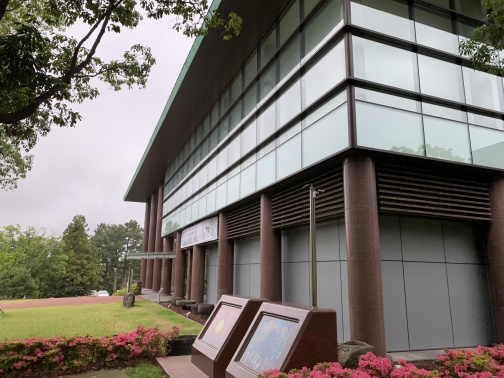Museum: (119, 9, 482, 352)
